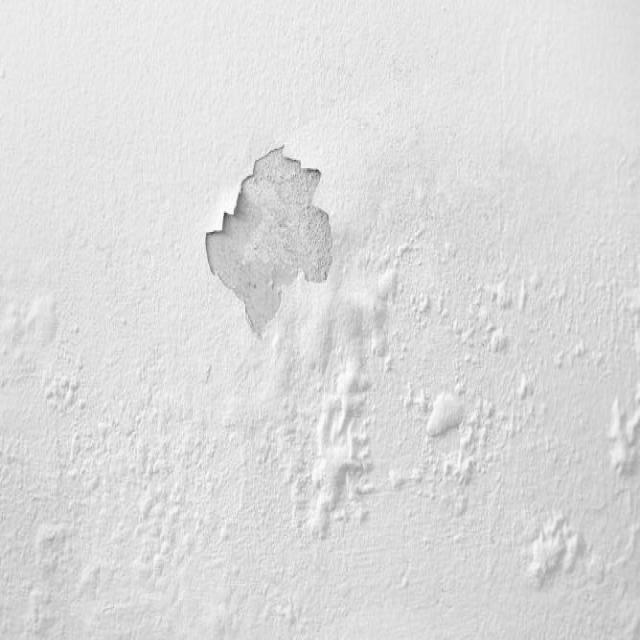peeling paint: (180, 107, 364, 358)
